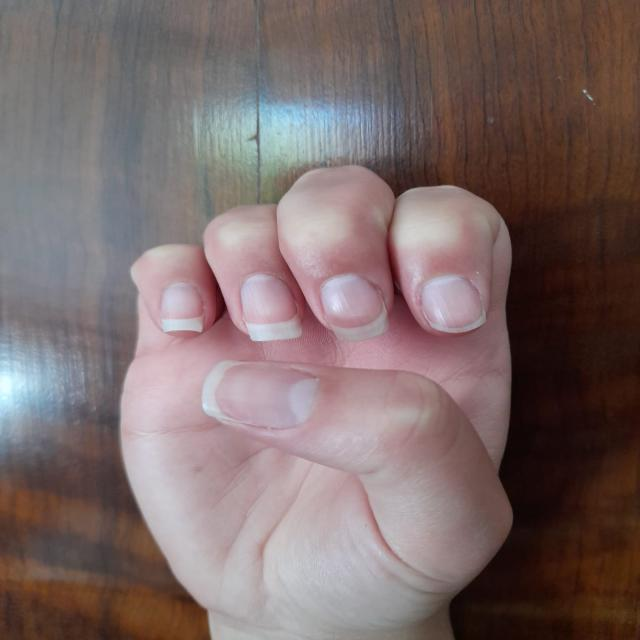E: (75, 148, 557, 640)
